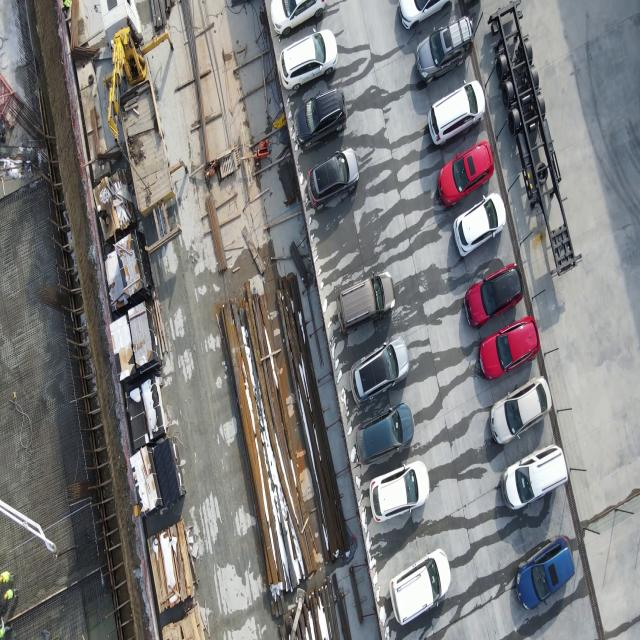p3rson: (95, 203, 112, 228), (0, 614, 13, 638), (3, 586, 20, 602), (0, 570, 16, 584), (60, 0, 70, 12), (0, 602, 6, 616), (110, 38, 114, 51)
